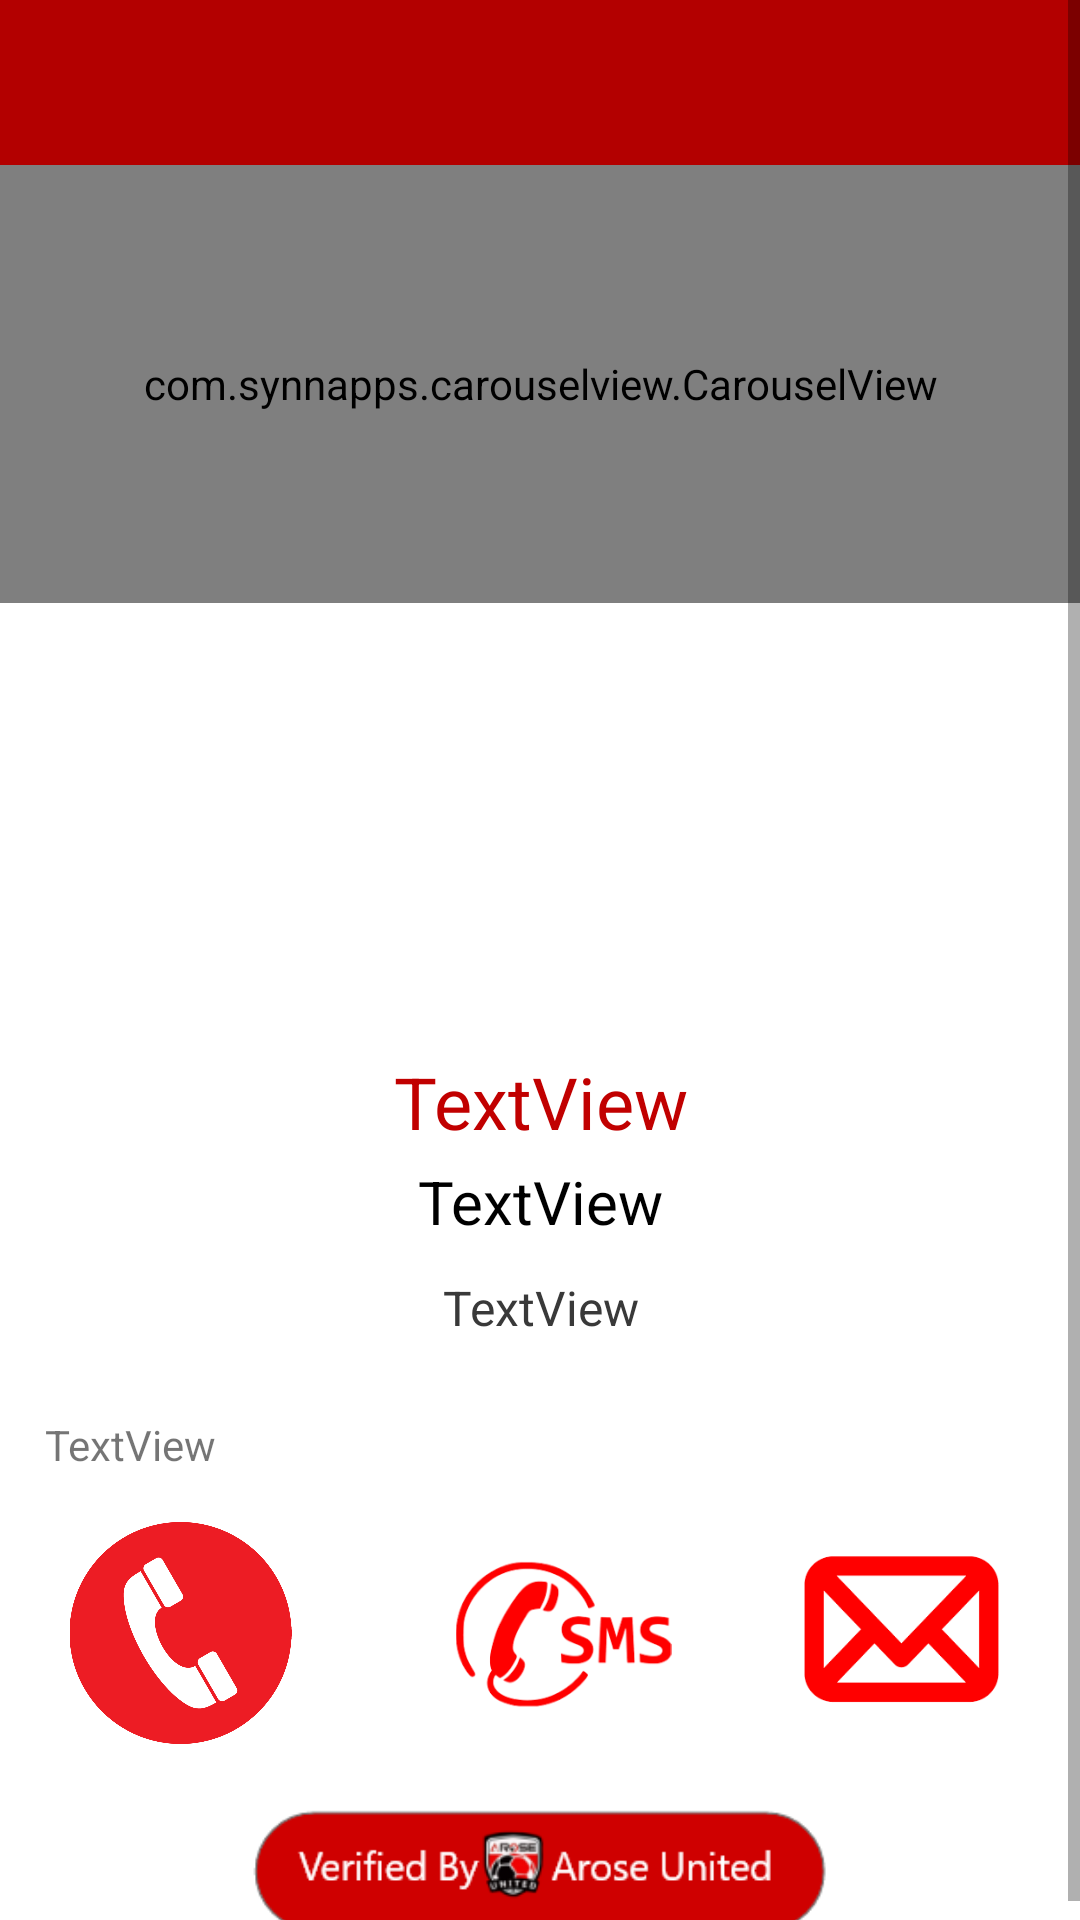

Icon click points for this 1080w x 1920h phone screenshot, format point (x, y):
call: point (181, 1633)
email: point (901, 1629)
